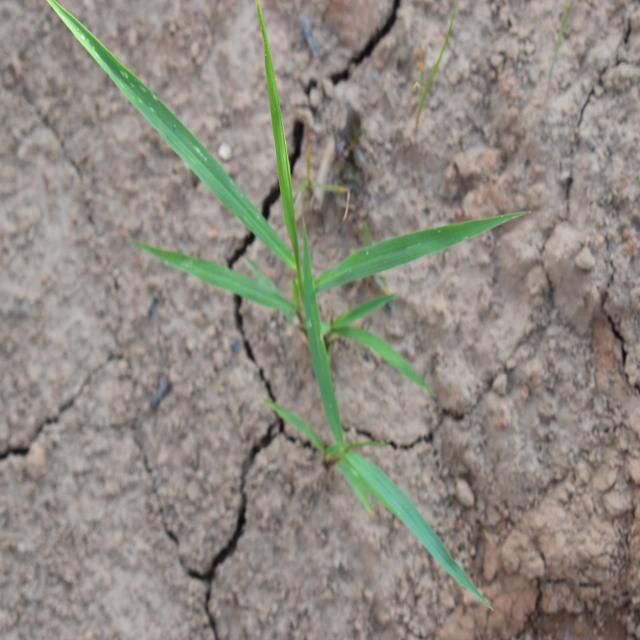green_foxtail: (97, 29, 487, 393), (302, 354, 478, 613)
